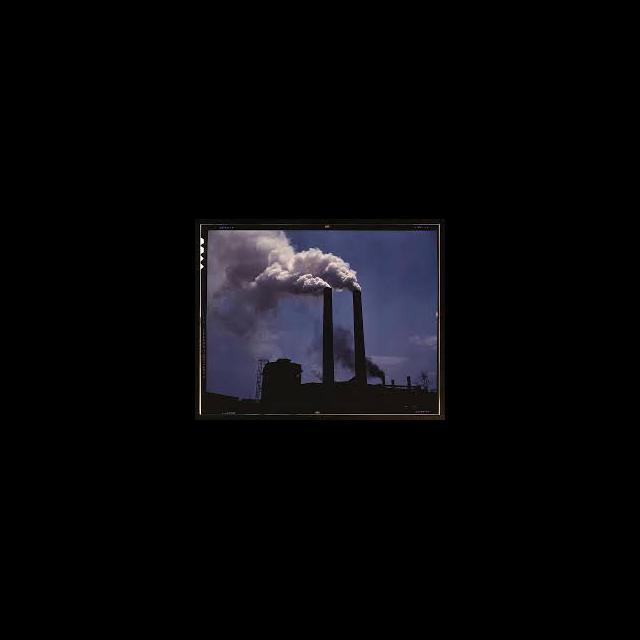Smoke: (209, 232, 358, 339)
